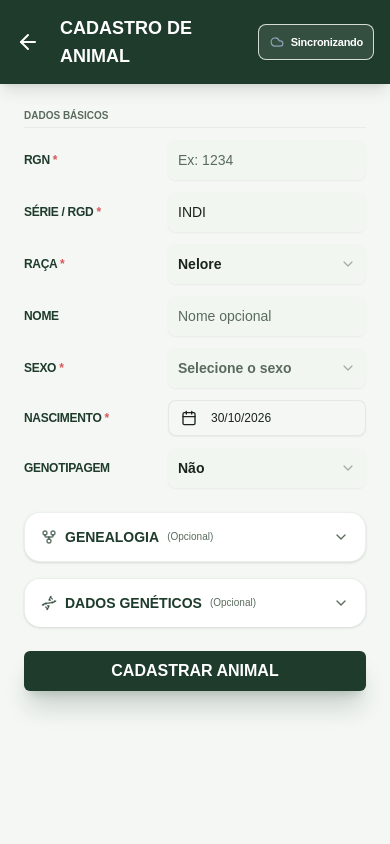
Scenario: CadastroAnimalPage — Item 7 › deve exibir os campos opcionais de genealogia ao abrir o accordion
The width and height of the screenshot is (390, 844).
Click the text "Genealogia": (112, 537) [65,527,159,547]
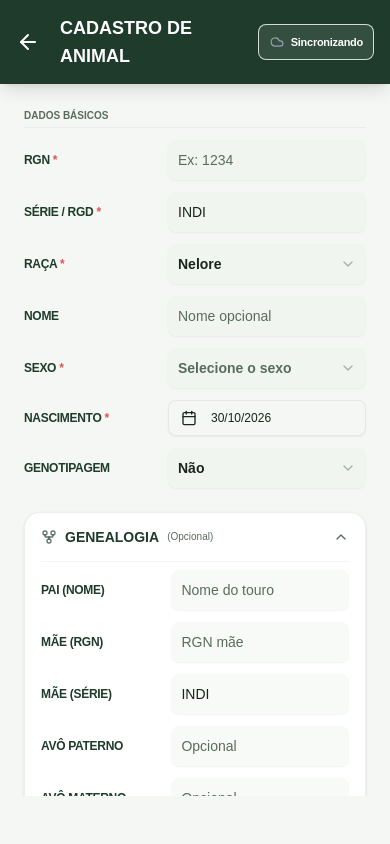
Expected: the field labelled "Pai (Nome)" is shown, [171,570,349,610]
Expected: the field labelled "Mãe (RGN)" is shown, [171,622,349,662]
Expected: the field labelled "Mãe (Série)" is shown, [171,674,349,714]
